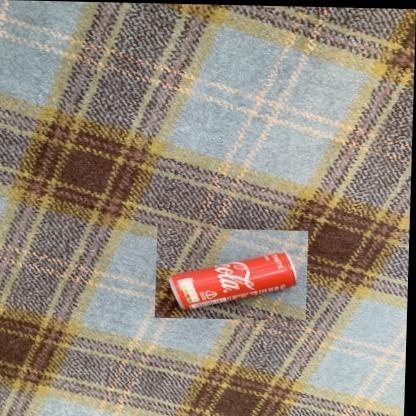trash: (169, 252, 295, 309)
